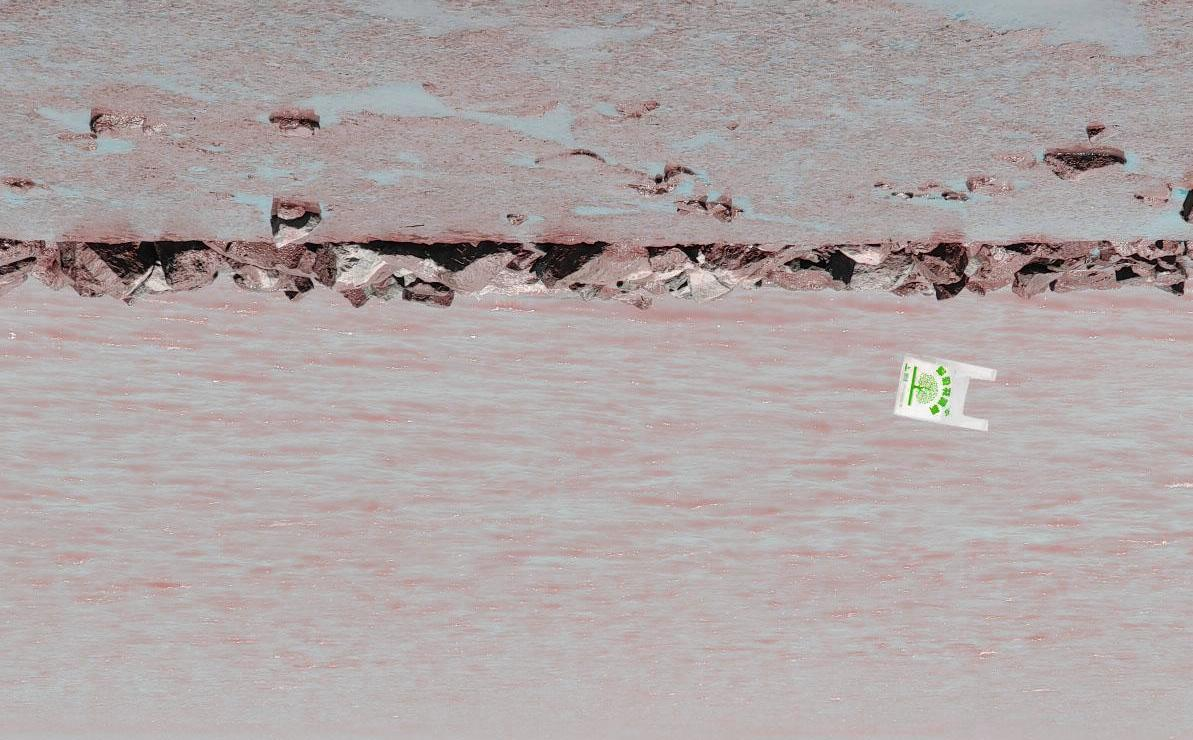Trash: (892, 353, 1002, 432)
